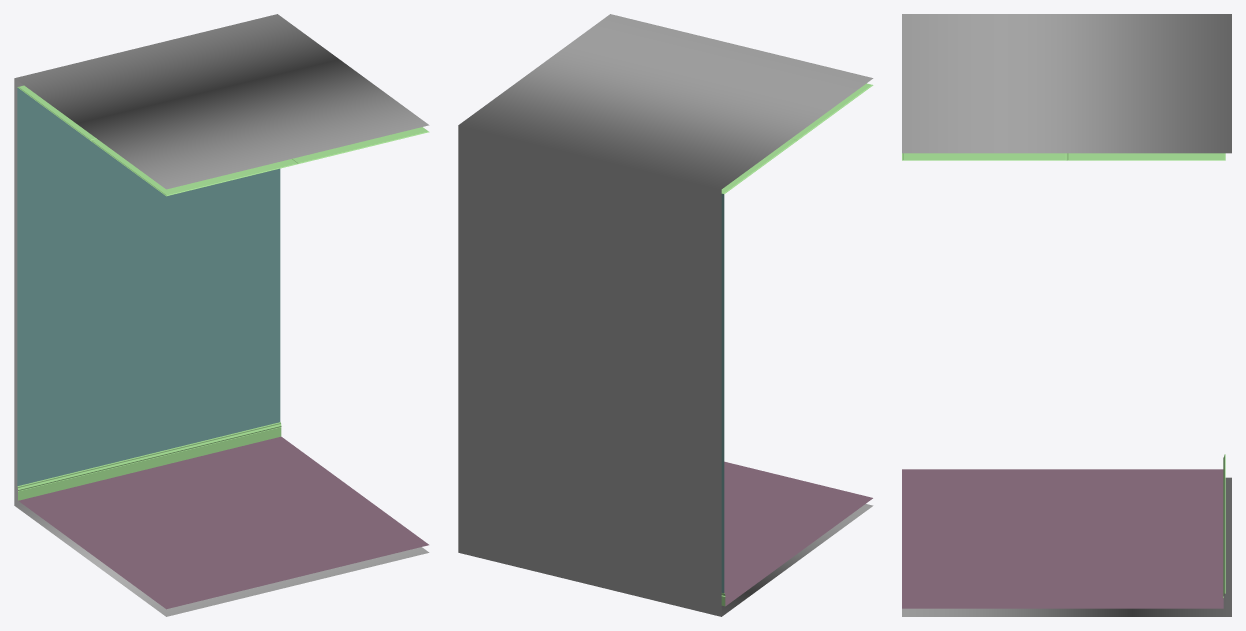
File: Room_2x2_side_geo.fbx
The picture shows the model from 3 angles, left to right: view 1: azimuth 30°, elevation 25°; view 2: azimuth 150°, elevation 25°; view 3: azimuth 270°, elevation 25°; orthographic projection. The views are drawn at different scales.
Visible parts, largest first — view 1: Room_2x2_side_geo; view 2: Room_2x2_side_geo; view 3: Room_2x2_side_geo.
Boxes of the visible parts, bbox=[...] form: Room_2x2_side_geo: bbox=[14, 14, 429, 616]; Room_2x2_side_geo: bbox=[458, 14, 873, 616]; Room_2x2_side_geo: bbox=[902, 14, 1231, 616].
Bounding box in the file's own units: 2 × 3.1 × 2.
